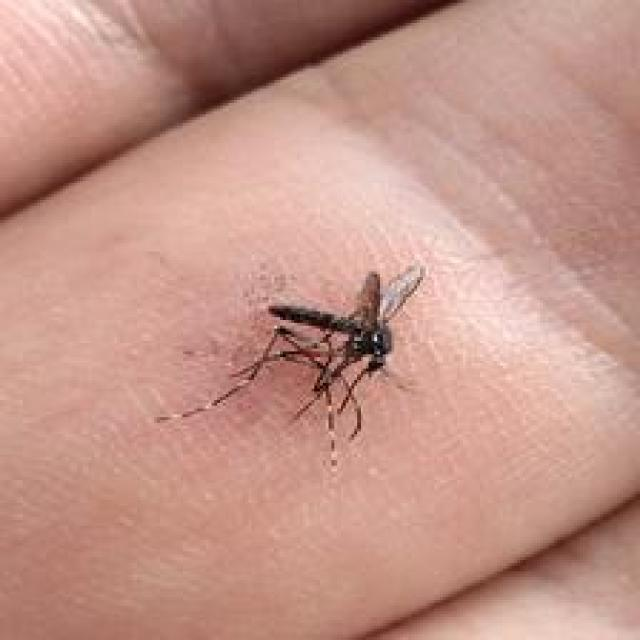Aedes albopictus: (156, 261, 427, 473)
